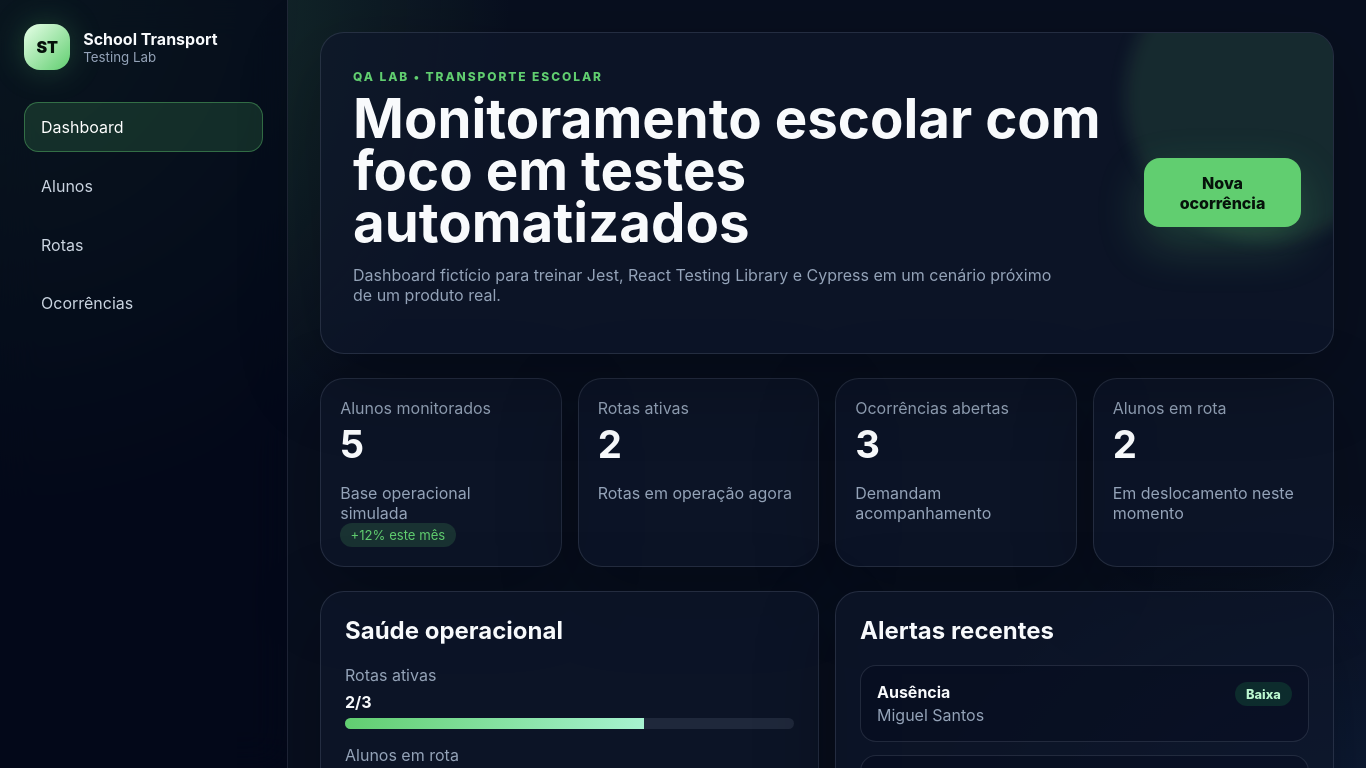
Test case: Students › filters students by status
Click the button with test id "nav-students" at [144, 186], box 24,161 -> 263,210
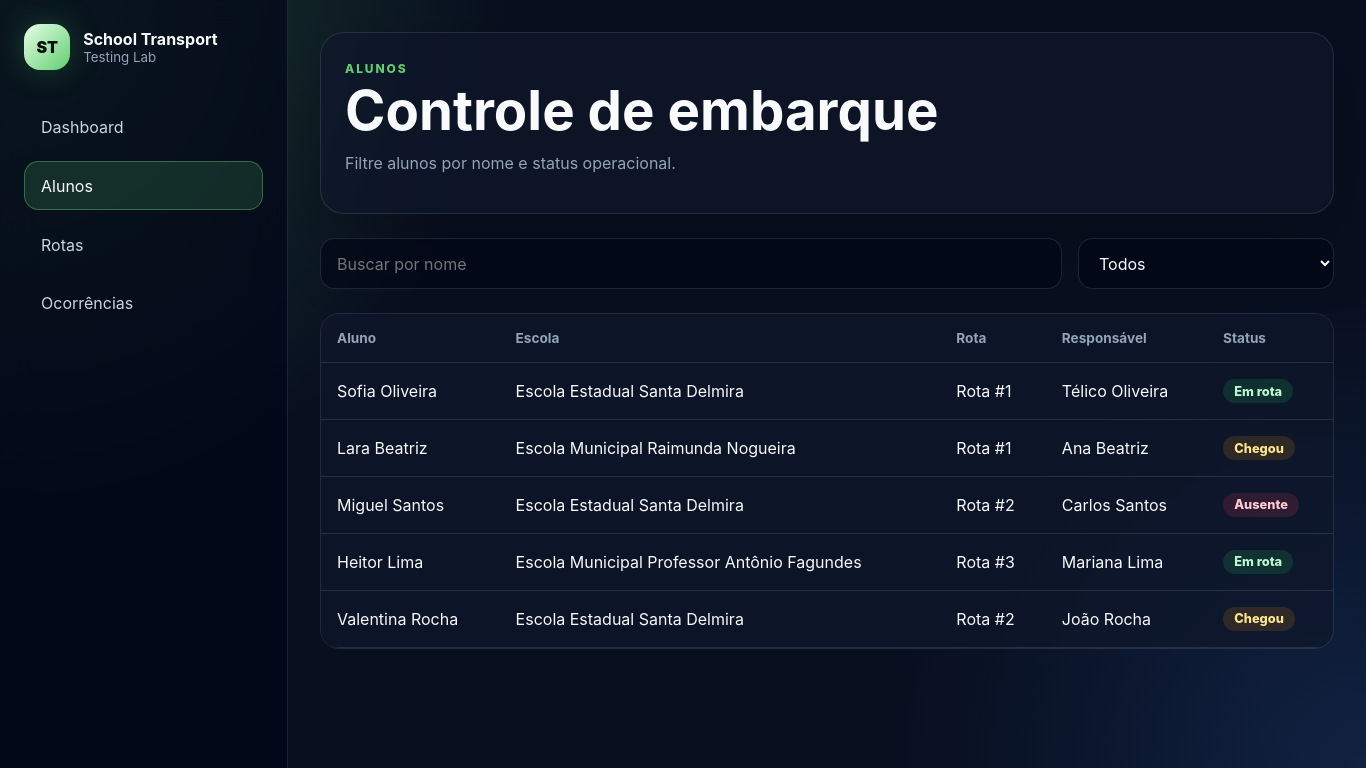
Select "Em rota" in the dropdown with test id "student-status-filter" at [1206, 264], box 1078,238 -> 1334,289
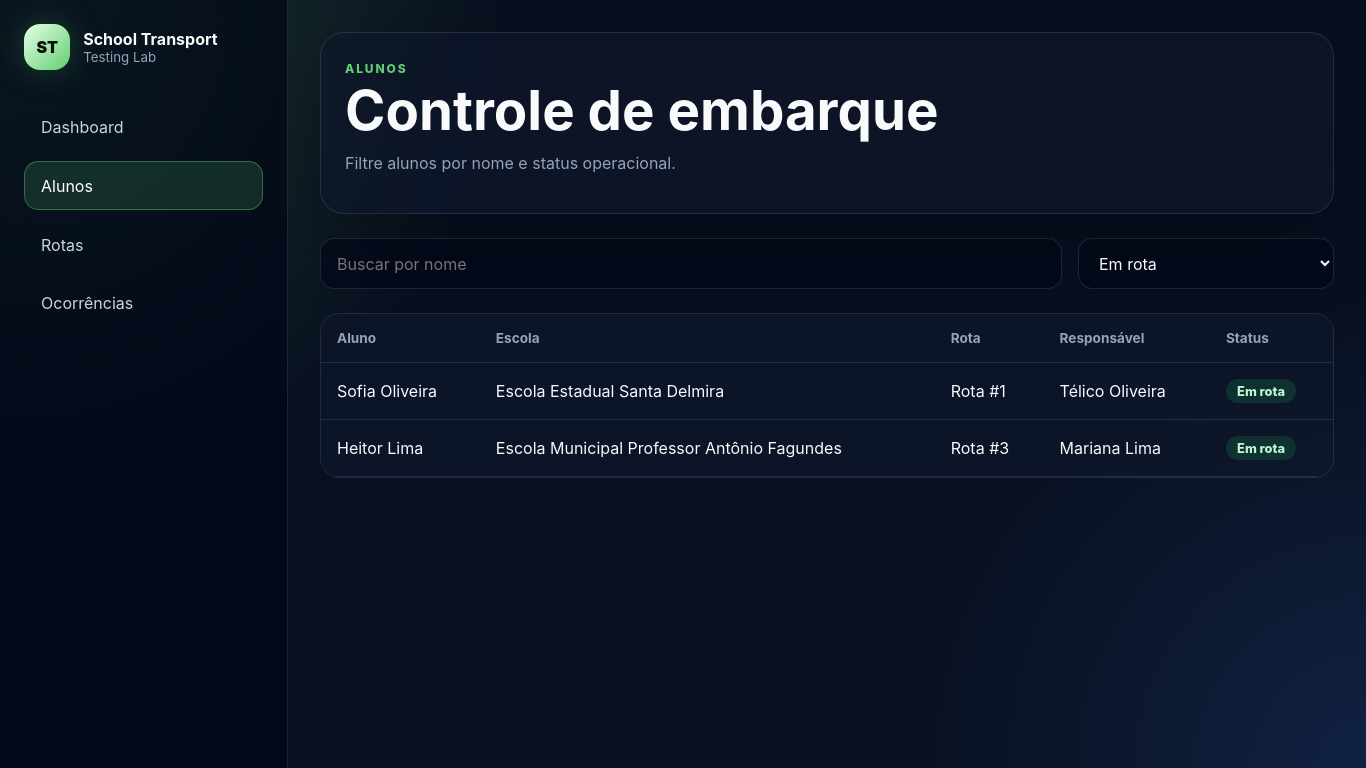
Expected: the text "Em rota" in the row of "Sofia Oliveira" is shown, 1237,384 -> 1285,399
Expected: the text "Ausente" is gone
